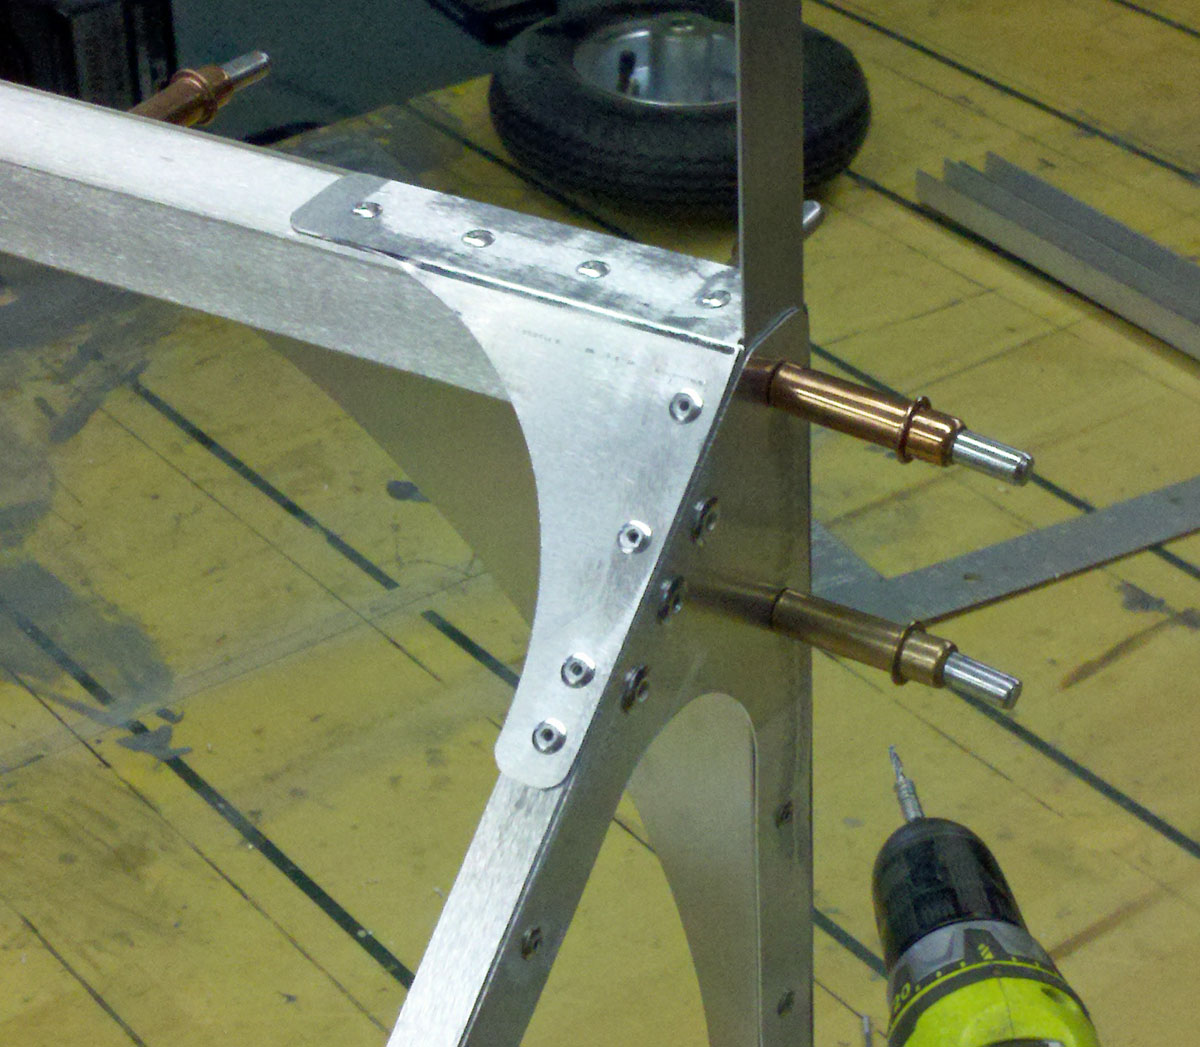rivet: (618, 656, 661, 717), (656, 571, 695, 628), (688, 494, 726, 551), (662, 386, 711, 428), (528, 717, 570, 759), (612, 519, 657, 558), (558, 652, 599, 690), (518, 926, 545, 968), (576, 254, 610, 284), (692, 287, 730, 313), (457, 227, 495, 251), (771, 991, 797, 1024), (348, 199, 381, 222), (777, 802, 797, 829)
